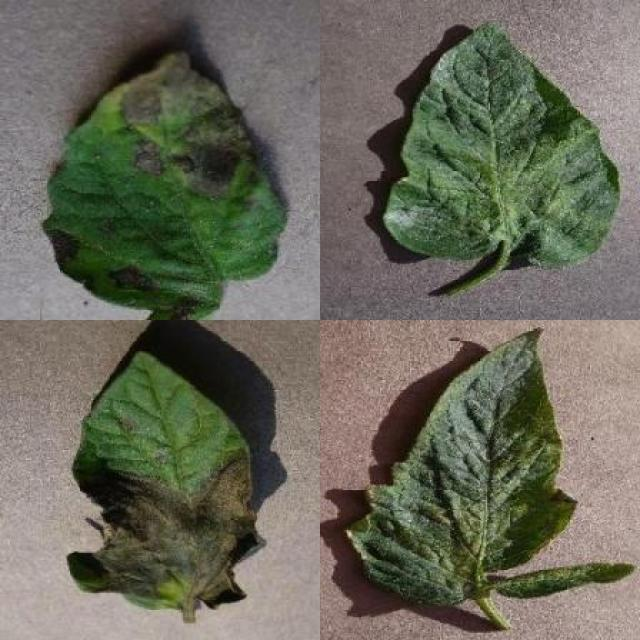Early Blight: (41, 50, 286, 320)
Late Blight: (64, 350, 267, 610)
Spider Mites: (346, 328, 578, 608), (381, 18, 618, 272), (499, 561, 637, 599)
